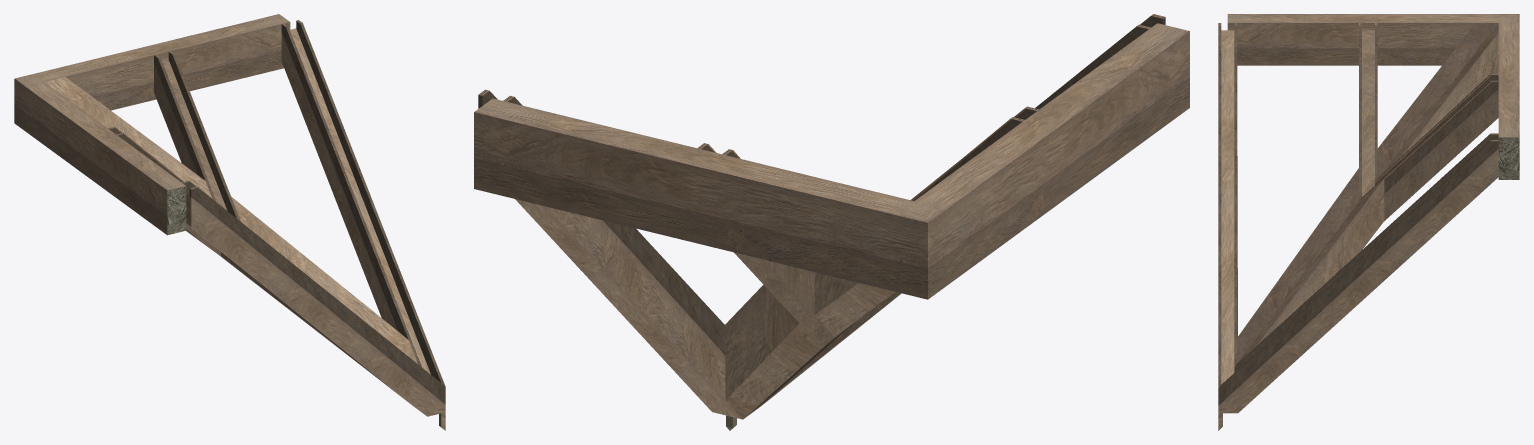
File: RafterCornerInsideA.fbx
The picture shows the model from 3 angles, left to right: view 1: azimuth 30°, elevation 25°; view 2: azimuth 150°, elevation 25°; view 3: azimuth 270°, elevation 25°; orthographic projection. The views are drawn at different scales.
Parts seen in each view (by area): view 1: RafterCornerInsideA; view 2: RafterCornerInsideA; view 3: RafterCornerInsideA.
Part boxes in pixels (left/top/right/bottom): RafterCornerInsideA: left=14, top=14, right=445, bottom=430; RafterCornerInsideA: left=474, top=14, right=1189, bottom=430; RafterCornerInsideA: left=1218, top=14, right=1519, bottom=430.
Size of the model in its own units: 433 by 459 by 433.
